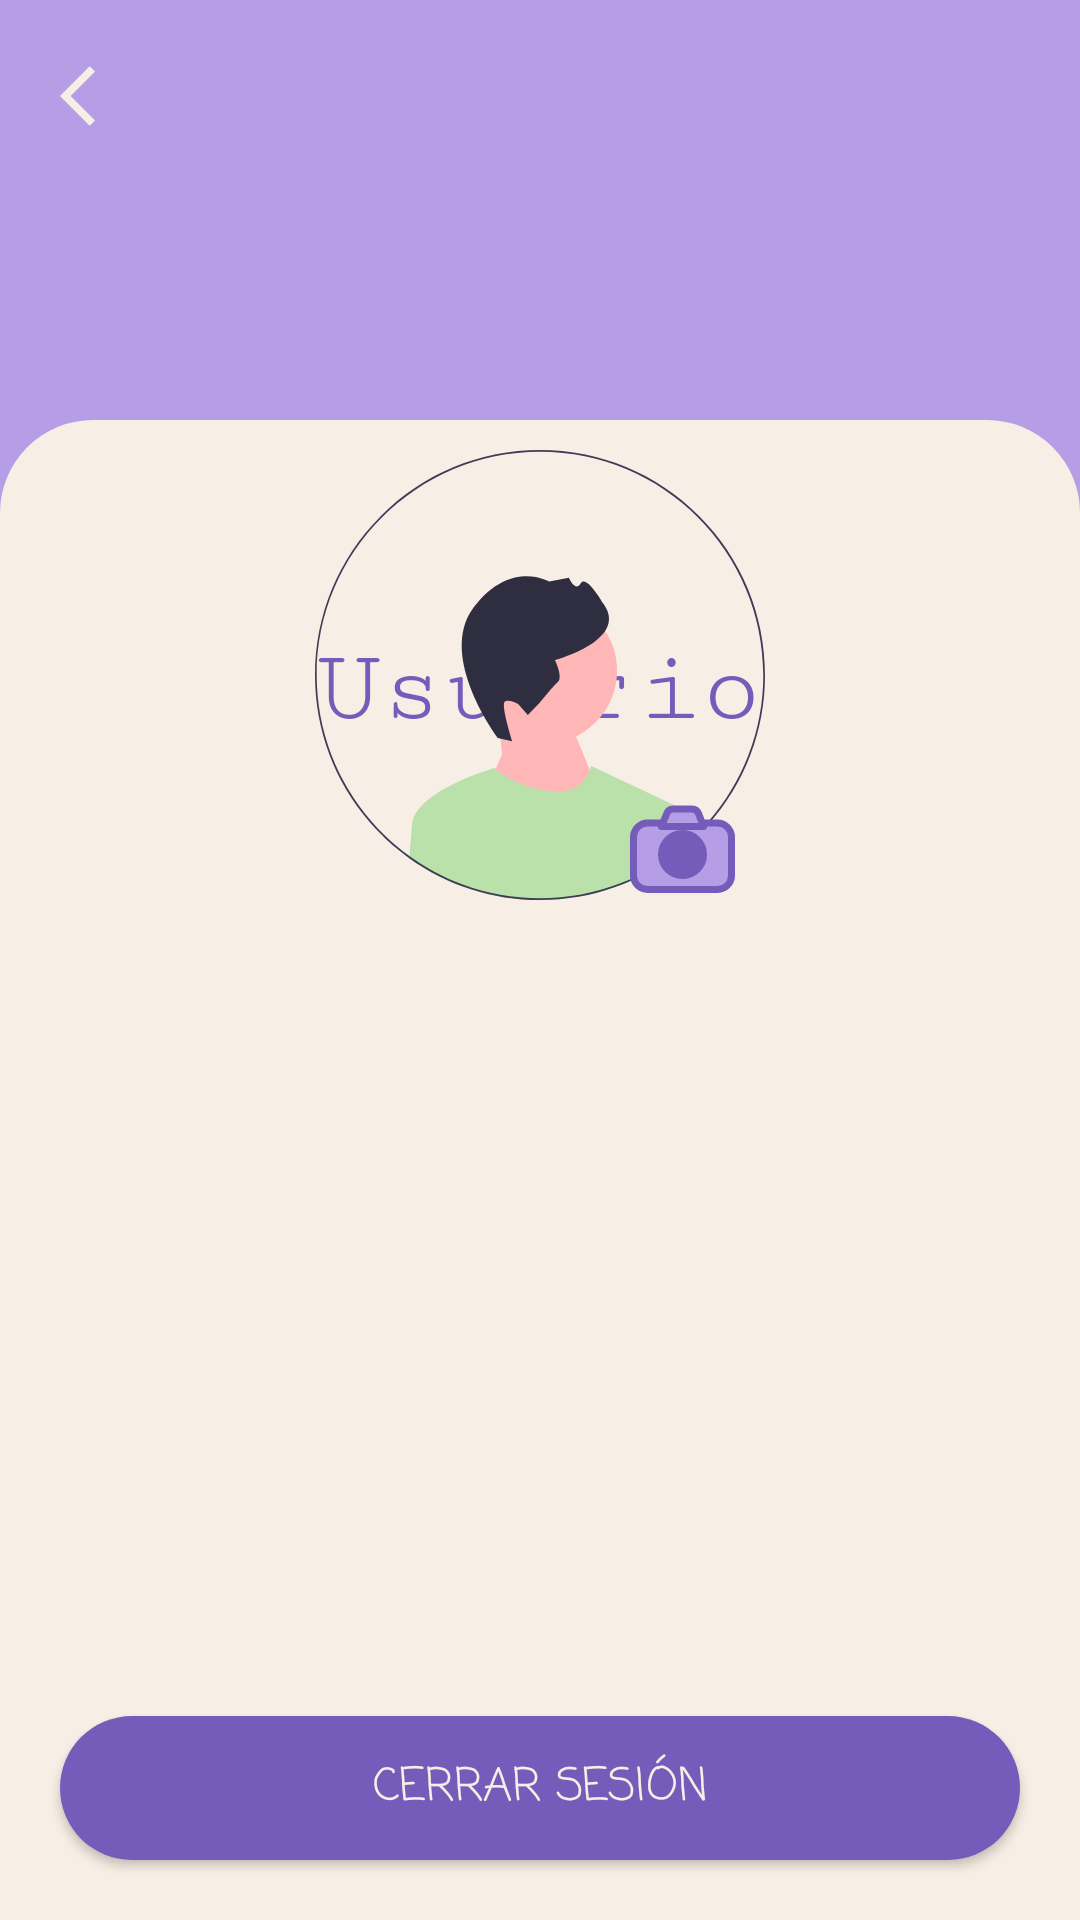

Screen size 1080x1920. Icon name, then its box in pixels as (x1, y1, x2, y2):
back: (60, 66, 95, 126)
